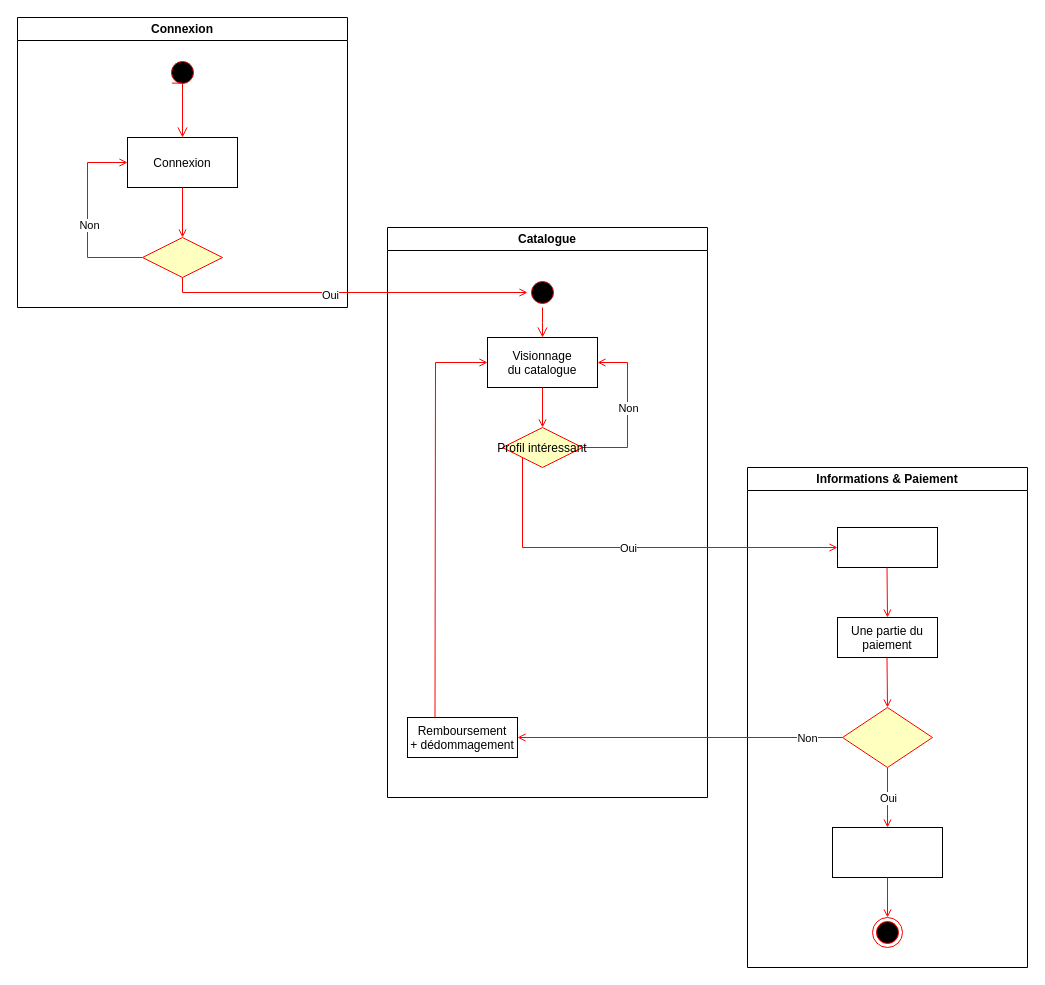
Some shapes in this 1045 by 985 pixel diagram are drawn without their labels. Here are the shapes that lost their labels. From the top down, the centre of each, then its label:
At pixel 182 257: "Valide ?".
At pixel 887 547: "Partage d'informations".
At pixel 887 737: "Confirmation meurtre".
At pixel 887 852: "process command".
